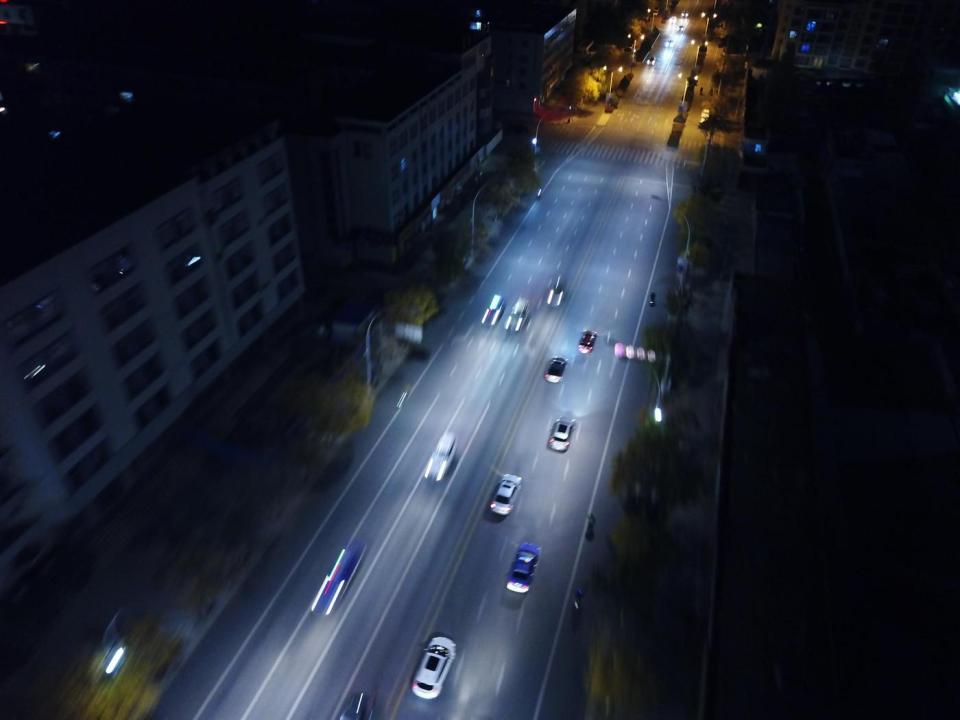car: (98, 599, 162, 683), (308, 540, 367, 617), (409, 635, 457, 700), (505, 543, 541, 593), (488, 473, 522, 514), (336, 685, 373, 720), (549, 411, 574, 452), (482, 294, 504, 326), (544, 356, 565, 382), (548, 279, 566, 307), (579, 329, 598, 353), (508, 124, 529, 134), (646, 56, 656, 65), (666, 39, 673, 47), (669, 16, 676, 23), (676, 25, 684, 31), (682, 10, 688, 16), (624, 48, 632, 52), (625, 42, 633, 46), (652, 11, 658, 15), (653, 6, 659, 10)
van: (422, 430, 457, 479), (505, 298, 528, 330)
